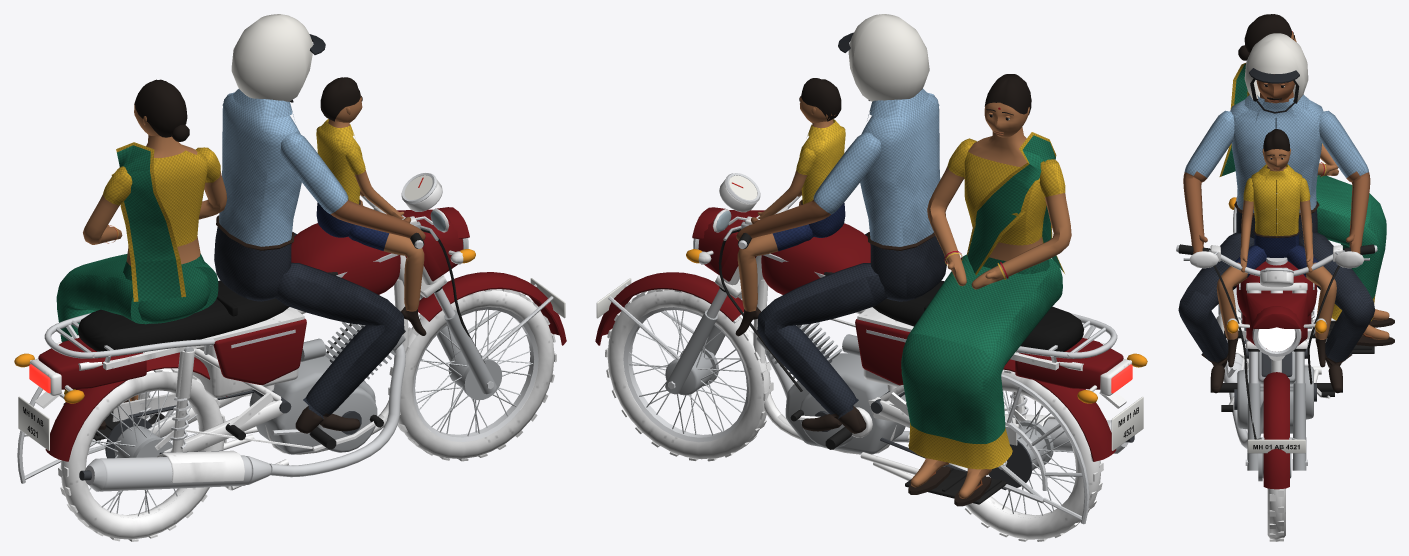
The model's file is bike.glb.
3 views of the same model, side by side, from view 1: azimuth 30°, elevation 25°; view 2: azimuth 150°, elevation 25°; view 3: azimuth 270°, elevation 25° (orthographic). The views are drawn at different scales.
Visible parts, largest first — view 1: Bike__bike_red, pillion_mother__cloth_#1f7a5a, driver_father__cloth_#9fc3e3, Bike__body_black, Bike__chrome, driver_father__cloth_#2e3440, Bike__engine_alu, wheel_r__tyre, wheel_f__tyre, Bike__seat_vinyl, helmet, kid_son__cloth_#f2c230 (+11 smaller); view 2: pillion_mother__cloth_#1f7a5a, driver_father__cloth_#9fc3e3, Bike__bike_red, driver_father__cloth_#2e3440, wheel_f__tyre, Bike__engine_alu, Bike__body_black, Bike__chrome, pillion_mother__cloth_#e0b02a, helmet, wheel_r__tyre, kid_son__cloth_#f2c230 (+13 smaller); view 3: driver_father__cloth_#9fc3e3, driver_father__cloth_#2e3440, Bike__bike_red, kid_son__cloth_#f2c230, pillion_mother__cloth_#1f7a5a, Bike__engine_alu, kid_son__cloth_#24315a, Bike__body_black, Bike__chrome, helmet, Bike__rubber, pillion_mother__hair_#1b1512 (+11 smaller).
Boxes of the visible parts, box(x1,y1,x2,y2) form: Bike__bike_red: box(38, 207, 566, 461); pillion_mother__cloth_#1f7a5a: box(56, 135, 218, 401); driver_father__cloth_#9fc3e3: box(214, 89, 425, 301); Bike__body_black: box(29, 158, 463, 490); Bike__chrome: box(17, 173, 553, 491); driver_father__cloth_#2e3440: box(274, 232, 404, 433); Bike__engine_alu: box(133, 221, 502, 457); wheel_r__tyre: box(58, 368, 226, 541); wheel_f__tyre: box(388, 289, 556, 461); Bike__seat_vinyl: box(77, 280, 289, 354); helmet: box(231, 14, 312, 101); kid_son__cloth_#f2c230: box(316, 119, 404, 237); pillion_mother__cloth_#1f7a5a: box(901, 127, 1064, 498); driver_father__cloth_#9fc3e3: box(736, 88, 946, 301); Bike__bike_red: box(595, 207, 1123, 461); driver_father__cloth_#2e3440: box(757, 232, 887, 433); wheel_f__tyre: box(605, 289, 773, 461); Bike__engine_alu: box(665, 221, 1053, 468); Bike__body_black: box(698, 158, 1131, 480); Bike__chrome: box(608, 173, 1128, 524); pillion_mother__cloth_#e0b02a: box(927, 138, 1071, 289); helmet: box(848, 14, 929, 101); wheel_r__tyre: box(943, 369, 1103, 541); kid_son__cloth_#f2c230: box(757, 119, 845, 237); driver_father__cloth_#9fc3e3: box(1183, 91, 1370, 253); driver_father__cloth_#2e3440: box(1178, 232, 1374, 393); Bike__bike_red: box(1236, 261, 1317, 489); kid_son__cloth_#f2c230: box(1240, 164, 1313, 272); pillion_mother__cloth_#1f7a5a: box(1219, 63, 1389, 339); Bike__engine_alu: box(1183, 250, 1369, 481); kid_son__cloth_#24315a: box(1216, 245, 1336, 367); Bike__body_black: box(1189, 245, 1364, 405); Bike__chrome: box(1176, 196, 1377, 465); helmet: box(1244, 33, 1308, 103); Bike__rubber: box(1178, 244, 1374, 439); pillion_mother__hair_#1b1512: box(1238, 14, 1291, 60).
Bounding box in the file's own units: 0.8601 × 0.755 × 0.3596.
44 materials, 10 textured.
